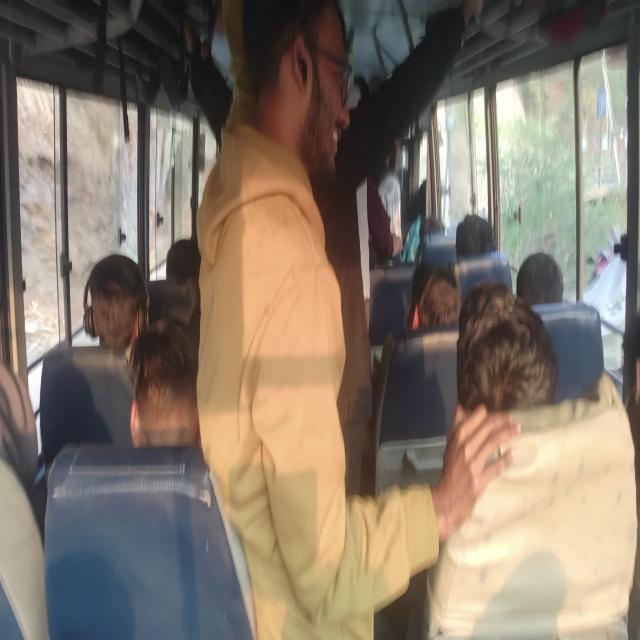person: (237, 0, 365, 210), (288, 0, 393, 213), (458, 296, 564, 454), (142, 328, 222, 469), (86, 255, 150, 358), (0, 344, 28, 556), (399, 280, 454, 344), (513, 246, 564, 310), (449, 208, 485, 279), (160, 236, 195, 276), (420, 211, 447, 243)
